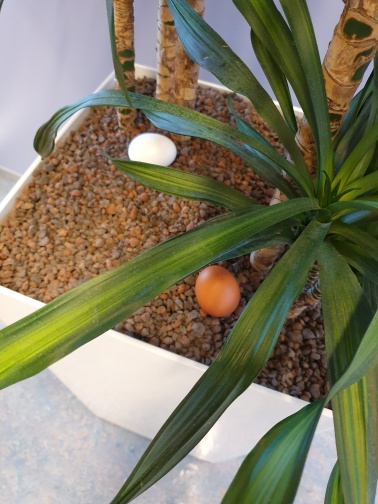egg: (195, 263, 239, 320), (127, 133, 177, 172)
